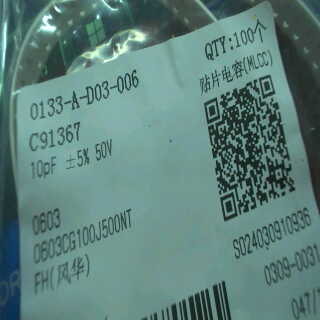10pF: (21, 152, 61, 179)
